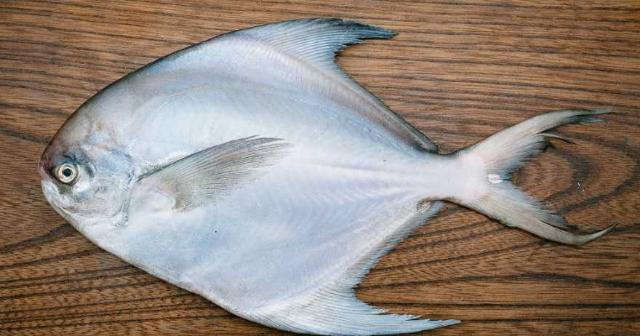Mulut: (21, 149, 67, 217)
Sirip Anal: (325, 195, 443, 286)
Sirip Dada: (121, 127, 301, 225)
Sirip Ekor: (443, 101, 624, 253)
Sirip Perut: (242, 286, 463, 336)
Sirip Punggung: (232, 13, 446, 151)
